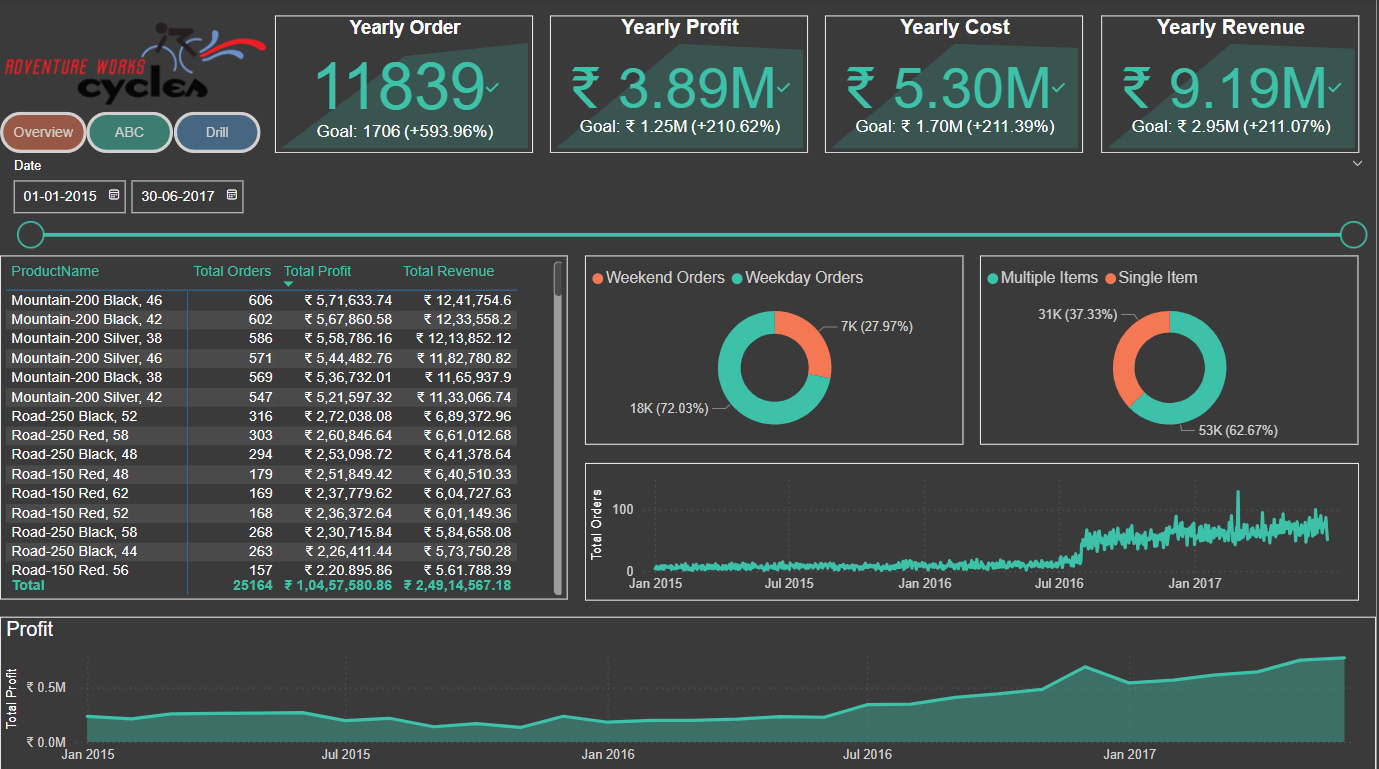

The dashboard page shown, as its layout file describes it:
{"tool":"powerbi","page":{"name":"Sales","canvas":[1280,720],"ordinal":1},"visuals":[{"type":"kpi","title":"Yearly Order","fields":{"Indicator":["AW_Sales.Total Orders"],"TrendLine":["AW_Calendar_Lookup.Start of Year"],"Goal":["AW_Sales.Prev Year Order"]},"box":[256,16,240,128],"z":0},{"type":"kpi","title":"Yearly Profit","fields":{"Indicator":["AW_Sales.Total Profit"],"TrendLine":["AW_Calendar_Lookup.Start of Year"],"Goal":["AW_Sales.Prev Year profit"]},"box":[512,16,240,128],"z":1000},{"type":"kpi","title":"Yearly Revenue","fields":{"Indicator":["AW_Sales.Total Revenue"],"TrendLine":["AW_Calendar_Lookup.Start of Year"],"Goal":["AW_Sales.Prev Year Revenue"]},"box":[1024,16,240,128],"z":2000},{"type":"kpi","title":"Yearly Cost","fields":{"Indicator":["AW_Sales.Total Cost"],"TrendLine":["AW_Calendar_Lookup.Start of Year"],"Goal":["AW_Sales.Prev Year Cost"]},"box":[768,16,240,128],"z":3000},{"type":"slicer","fields":{"Values":["AW_Calendar_Lookup.Date"]},"box":[0,144.2,1280.2,95.3],"z":4000},{"type":"stackedAreaChart","title":"Profit","fields":{"Category":["AW_Calendar_Lookup.Date.Variation.Date Hierarchy.Year","AW_Calendar_Lookup.Date.Variation.Date Hierarchy.Month"],"Y":["AW_Sales.Total Profit"]},"box":[0,576,1280,144],"z":5000},{"type":"pivotTable","fields":{"Rows":["AW_Product_Lookup.ProductName"],"Values":["AW_Sales.Total Orders","AW_Sales.Total Profit","AW_Sales.Total Revenue"]},"box":[0,240,528,320],"z":6000},{"type":"donutChart","fields":{"Y":["AW_Sales.Weekend Orders","AW_Sales.Weekday Orders"]},"box":[544,240,352,176],"z":7000},{"type":"donutChart","fields":{"Category":["AW_Sales.QuantityType"],"Y":["AW_Sales.Quantity Sold"]},"box":[912,240,352,176],"z":8000},{"type":"lineChart","fields":{"Y":["AW_Sales.Total Orders"],"Category":["AW_Calendar_Lookup.Date.Variation.Date Hierarchy.Year","AW_Calendar_Lookup.Date.Variation.Date Hierarchy.Quarter","AW_Calendar_Lookup.Date.Variation.Date Hierarchy.Month","AW_Calendar_Lookup.Date.Variation.Date Hierarchy.Day"]},"box":[544,432,720,128],"z":9000},{"type":"image","box":[0,15.6,255.6,90.4],"z":10000},{"type":"actionButton","box":[0,105.7,80.8,38.3],"z":11000},{"type":"actionButton","box":[80.8,105.7,80.8,38.3],"z":13000},{"type":"actionButton","box":[161.6,105.7,80.8,38.3],"z":14000}]}

Visuals, with their boxes in screenshot pixels (x1, y1, x2, y2), scaled from the page's 1280x720 canvas onto the 1379x769 screenshot:
"Yearly Order" kpi: <bbox>276, 17, 534, 154</bbox>
"Yearly Profit" kpi: <bbox>552, 17, 810, 154</bbox>
"Yearly Revenue" kpi: <bbox>1103, 17, 1362, 154</bbox>
"Yearly Cost" kpi: <bbox>827, 17, 1086, 154</bbox>
slicer - AW_Calendar_Lookup.Date: <bbox>0, 154, 1378, 256</bbox>
"Profit" stackedAreaChart: <bbox>0, 615, 1378, 768</bbox>
pivotTable - AW_Product_Lookup.ProductName x AW_Sales.Total Orders: <bbox>0, 256, 569, 598</bbox>
donutChart - AW_Sales.Weekend Orders x AW_Sales.Weekday Orders: <bbox>586, 256, 965, 444</bbox>
donutChart - AW_Sales.QuantityType x AW_Sales.Quantity Sold: <bbox>983, 256, 1362, 444</bbox>
lineChart - AW_Sales.Total Orders x AW_Calendar_Lookup.Date.Variation.Date Hierarchy.Year: <bbox>586, 461, 1362, 598</bbox>
image: <bbox>0, 17, 275, 113</bbox>
actionButton: <bbox>0, 113, 87, 154</bbox>
actionButton: <bbox>87, 113, 174, 154</bbox>
actionButton: <bbox>174, 113, 261, 154</bbox>
